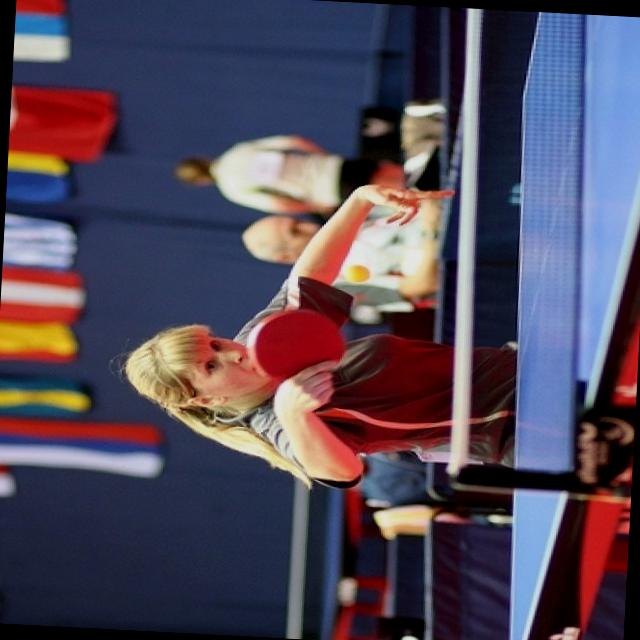TT Net: (447, 8, 603, 496), (283, 467, 328, 639)
TT Racket: (221, 286, 359, 392)
TT Table: (507, 12, 640, 640), (317, 479, 350, 640)
